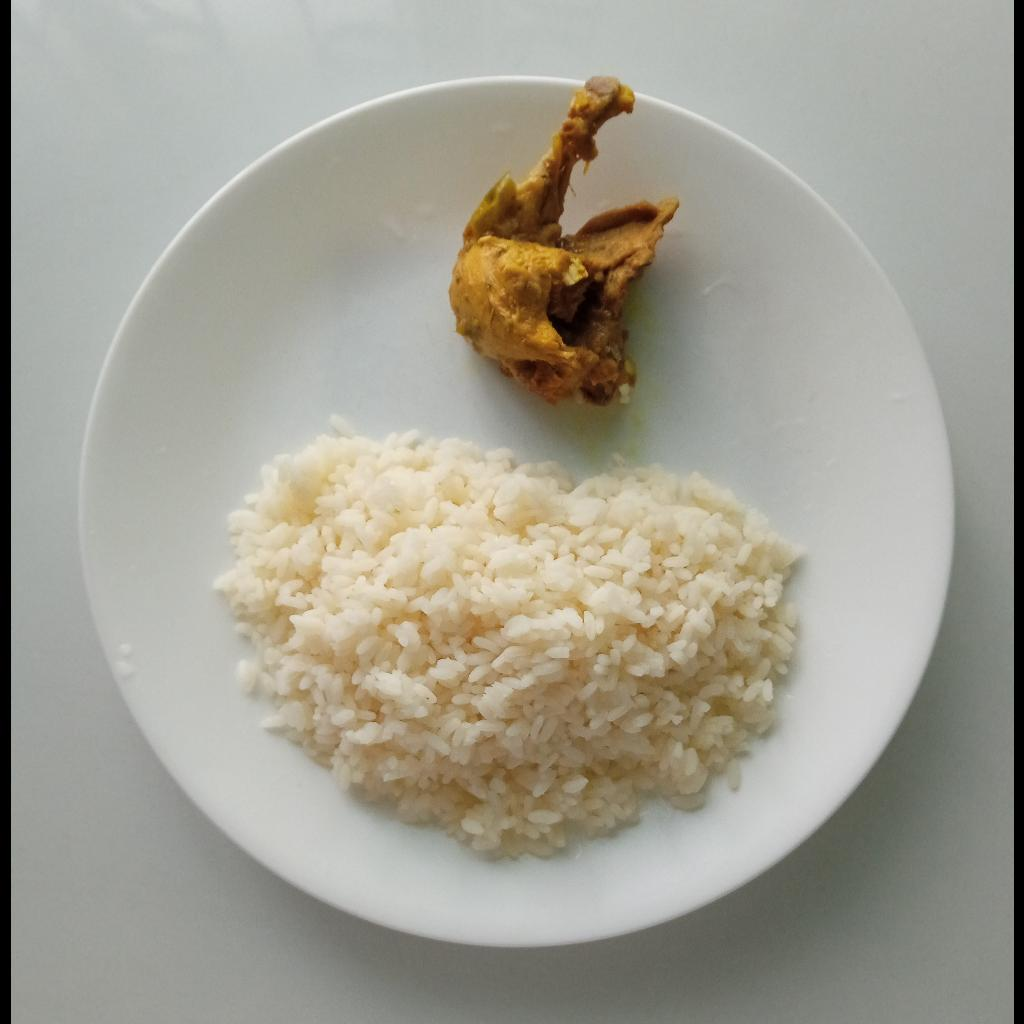chicken: (448, 74, 679, 408)
rice: (211, 413, 801, 858)
